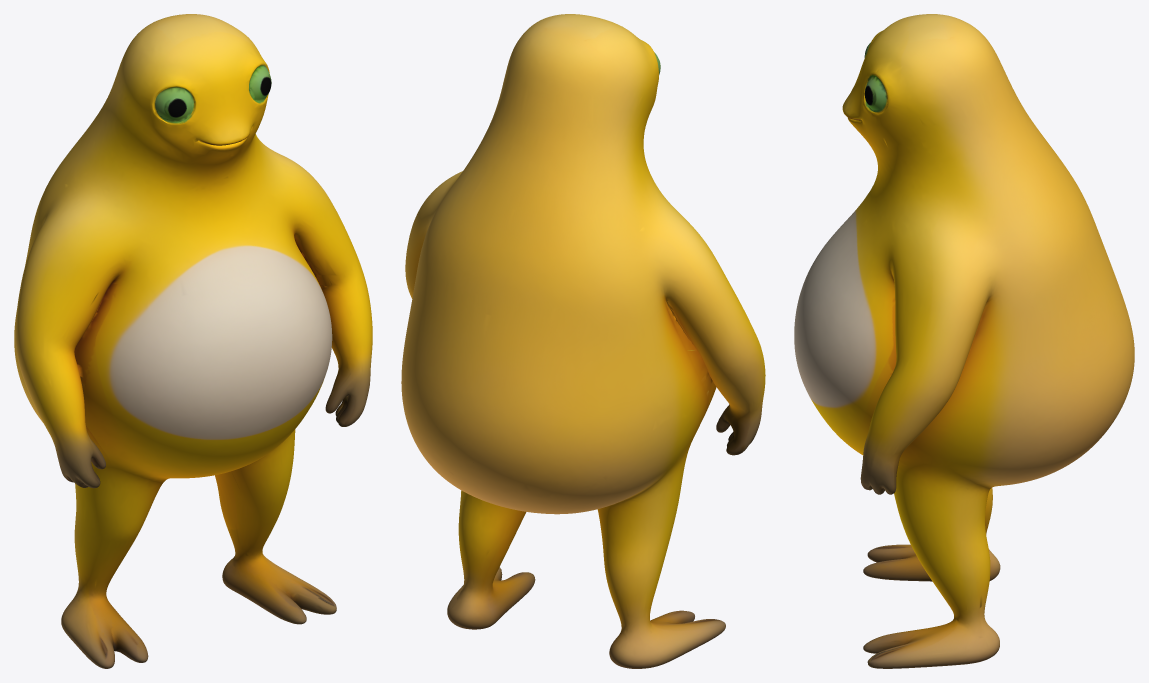
The model's file is frog.glb.
The picture shows the model from 3 angles, left to right: view 1: azimuth 30°, elevation 25°; view 2: azimuth 150°, elevation 25°; view 3: azimuth 270°, elevation 25°; orthographic projection. The views are drawn at different scales.
Visible parts, largest first — view 1: node_0; view 2: node_0; view 3: node_0.
Boxes of the visible parts, x1=… form: node_0: x1=14, y1=14, x2=372, y2=668; node_0: x1=401, y1=14, x2=765, y2=668; node_0: x1=794, y1=14, x2=1134, y2=668.
Size of the model in its own units: 0.6399 by 1.08 by 0.5639.
Materials: 1 (1 with a texture image).
